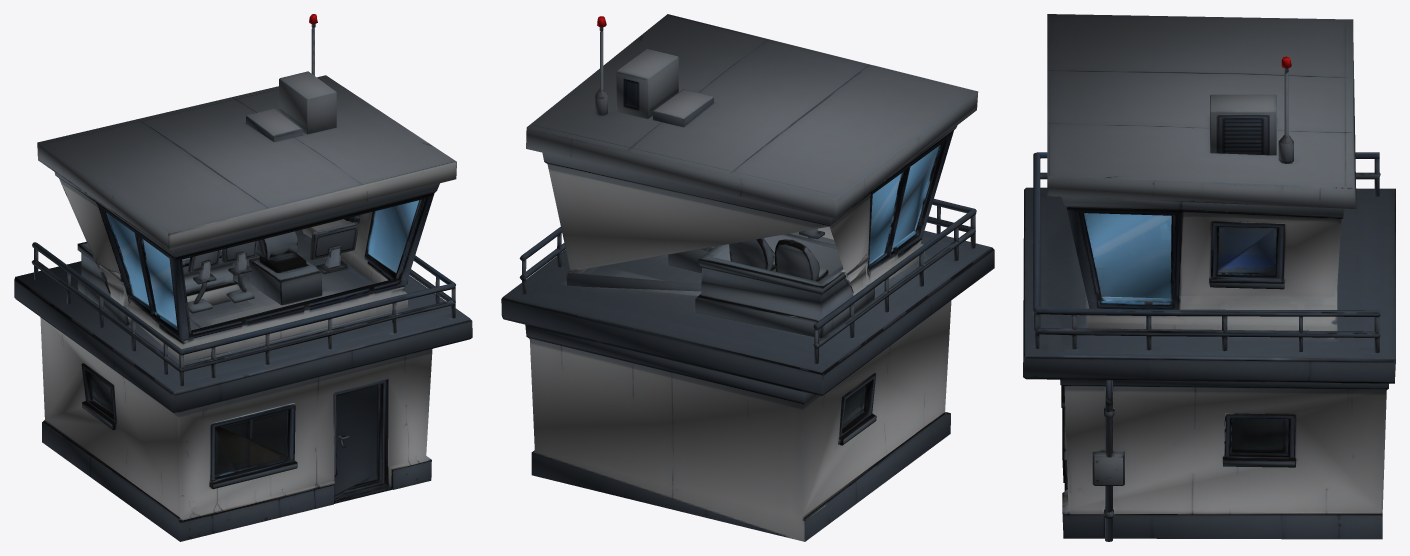
File: tower.glb
The picture shows the model from 3 angles, left to right: view 1: azimuth 30°, elevation 25°; view 2: azimuth 150°, elevation 25°; view 3: azimuth 270°, elevation 25°; orthographic projection. The views are drawn at different scales.
Visible parts, largest first — view 1: tripo_node_f06a53ec-34e5-4cfa-9319-8ad6fa8da53f; view 2: tripo_node_f06a53ec-34e5-4cfa-9319-8ad6fa8da53f; view 3: tripo_node_f06a53ec-34e5-4cfa-9319-8ad6fa8da53f.
Boxes of the visible parts, x1,y1,x2,y2 form: tripo_node_f06a53ec-34e5-4cfa-9319-8ad6fa8da53f: [14, 14, 472, 541]; tripo_node_f06a53ec-34e5-4cfa-9319-8ad6fa8da53f: [501, 14, 994, 541]; tripo_node_f06a53ec-34e5-4cfa-9319-8ad6fa8da53f: [1023, 14, 1395, 541].
Size of the model in its own units: 8.65 by 11.08 by 8.
1 material, 1 textured.
